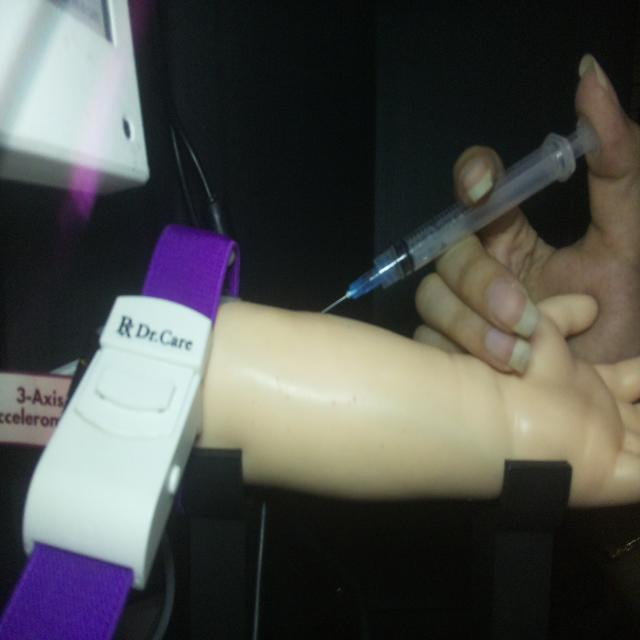23 degrees: (318, 113, 600, 316)
